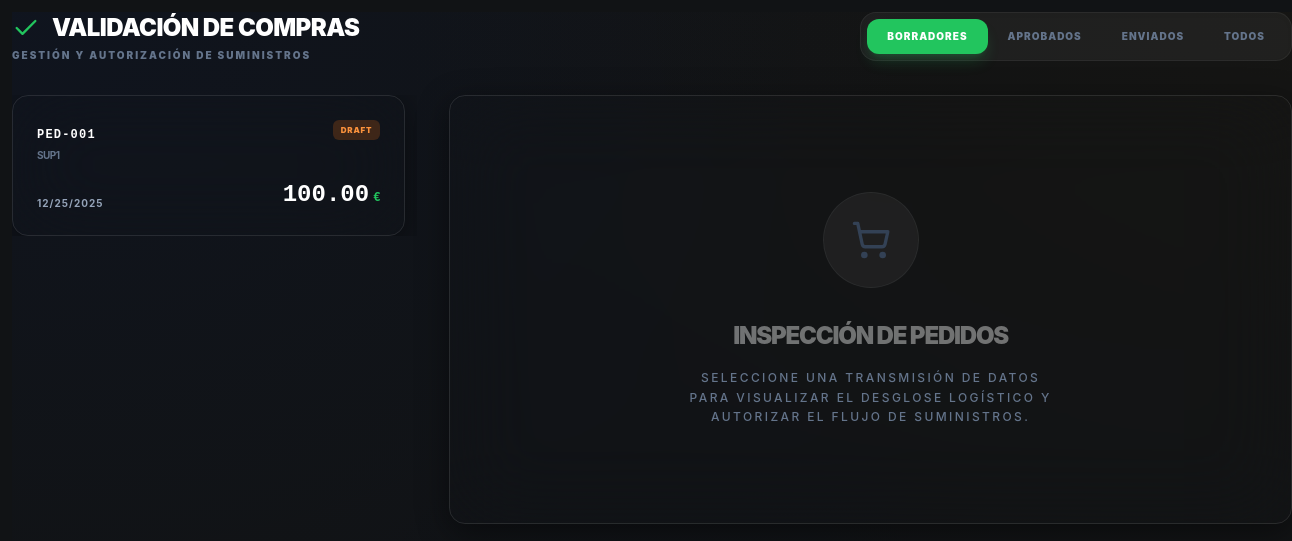
Test case: AprobacionPedido Integration › filters orders by status
Expected: the text "PED-001" is shown, [37,128,96,142]
Switch to APPROVED
Click the button "Aprobados".
click(1045, 36)  # box [988,19,1102,54]
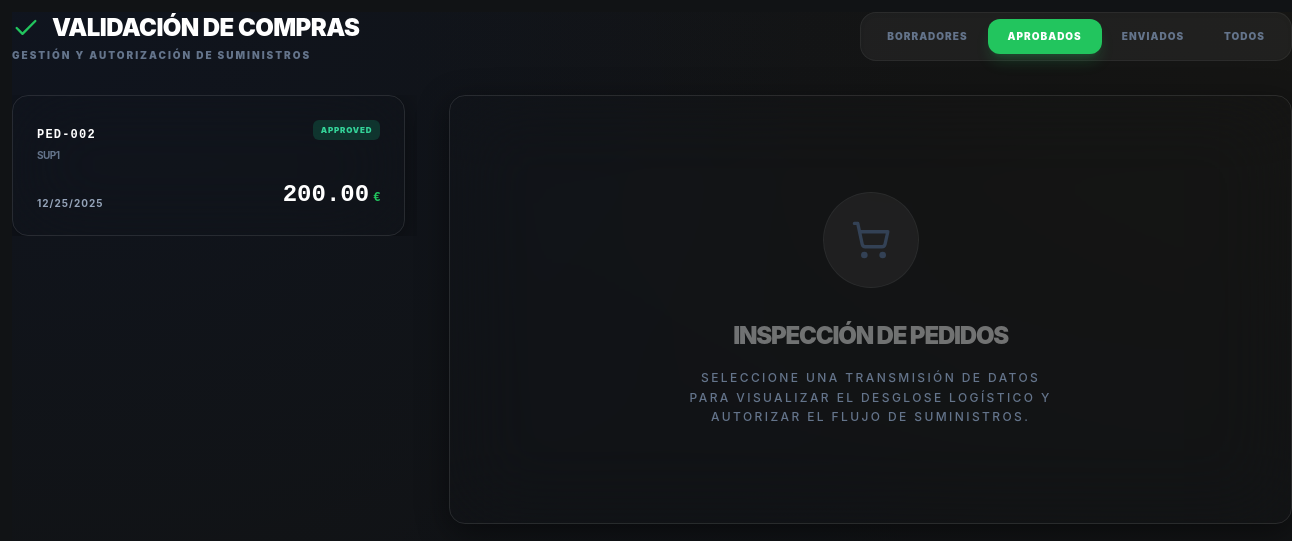
Expected: the text "PED-002" is shown, [37,128,96,142]
Expected: the text "PED-001" is gone
